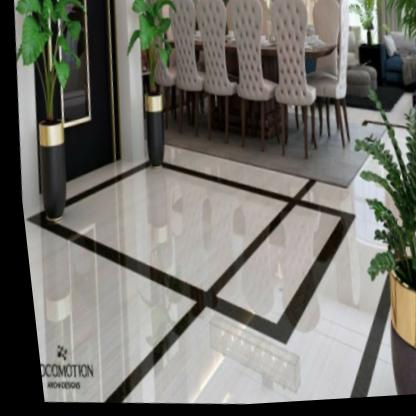Ceramic floor: (18, 146, 397, 404)
